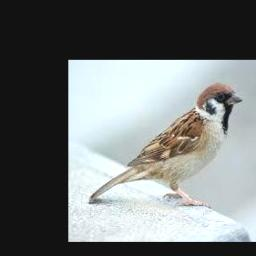Sparrow: (89, 82, 241, 206)
